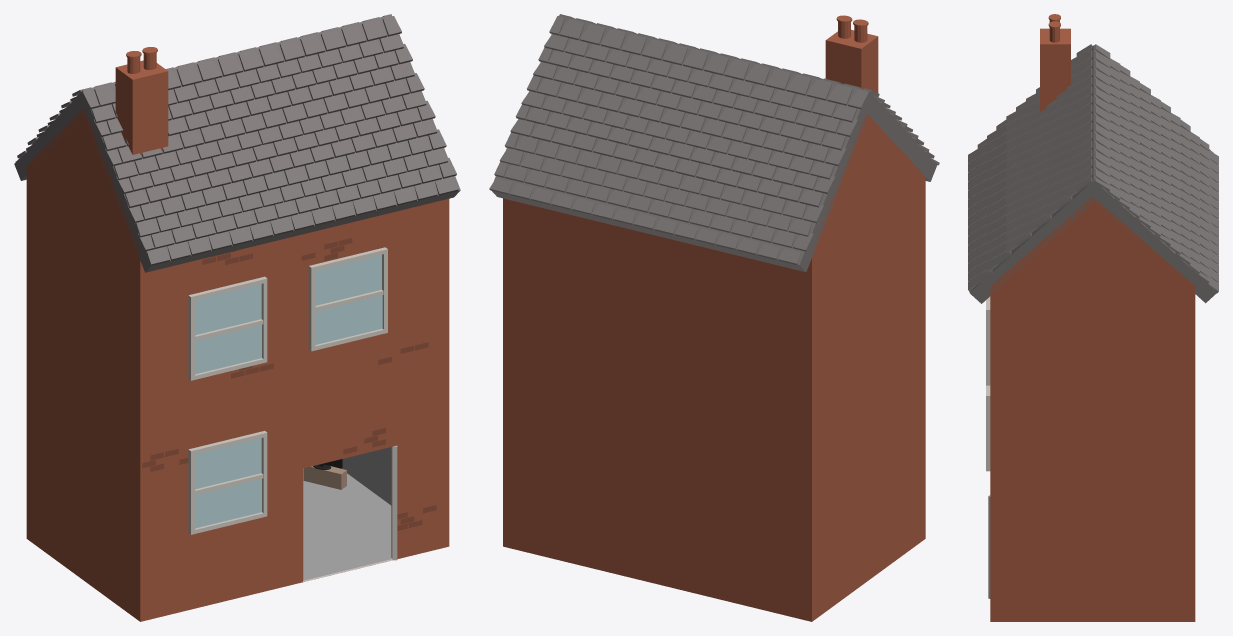
The model's file is Huis_inloop_v2.fbx.
3 views of the same model, side by side, from view 1: azimuth 30°, elevation 25°; view 2: azimuth 150°, elevation 25°; view 3: azimuth 270°, elevation 25° (orthographic). The views are drawn at different scales.
Visible parts, largest first — view 1: pCube172, pCube4, pCube182, pCube171, polySurface386, polySurface431, polySurface280, polySurface429, polySurface384, polySurface278, polySurface387, polySurface283 (+5 smaller); view 2: pCube172, pCube4, pCube171, group3_group2_polySurface17, polySurface417; view 3: pCube172, pCube4, pCube171, group3_group2_polySurface16, polySurface417, group3_group2_polySurface17, polySurface387, polySurface282.
Boxes of the visible parts, x1,y1,x2,y2 form: pCube172: (26, 108, 449, 621); pCube4: (14, 14, 460, 272); pCube182: (303, 447, 392, 580); pCube171: (115, 60, 168, 155); polySurface386: (195, 438, 261, 489); polySurface431: (315, 254, 381, 305); polySurface280: (195, 284, 261, 334); polySurface429: (315, 295, 382, 344); polySurface384: (195, 478, 261, 528); polySurface278: (195, 324, 261, 374); polySurface387: (188, 431, 267, 534); polySurface283: (188, 276, 267, 380); pCube172: (503, 114, 925, 621); pCube4: (492, 15, 937, 272); pCube171: (825, 29, 878, 96); group3_group2_polySurface17: (793, 89, 869, 251); polySurface417: (494, 16, 564, 177); pCube172: (990, 196, 1195, 621); pCube4: (969, 45, 1216, 303); pCube171: (1040, 28, 1070, 111); group3_group2_polySurface16: (977, 176, 1092, 283); polySurface417: (1095, 178, 1209, 283); group3_group2_polySurface17: (1095, 44, 1209, 150); polySurface387: (986, 385, 990, 471); polySurface282: (986, 297, 990, 385).
Size of the model in its own units: 4.49 by 7.36 by 3.47.
